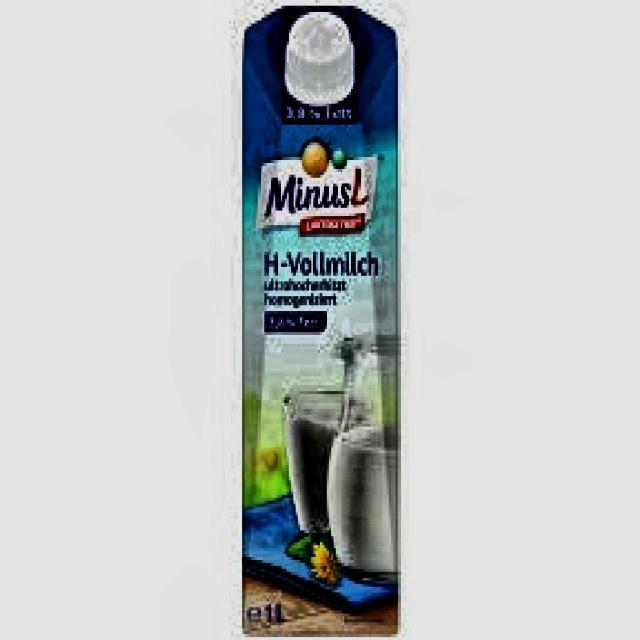cardboard: (240, 3, 400, 631)
